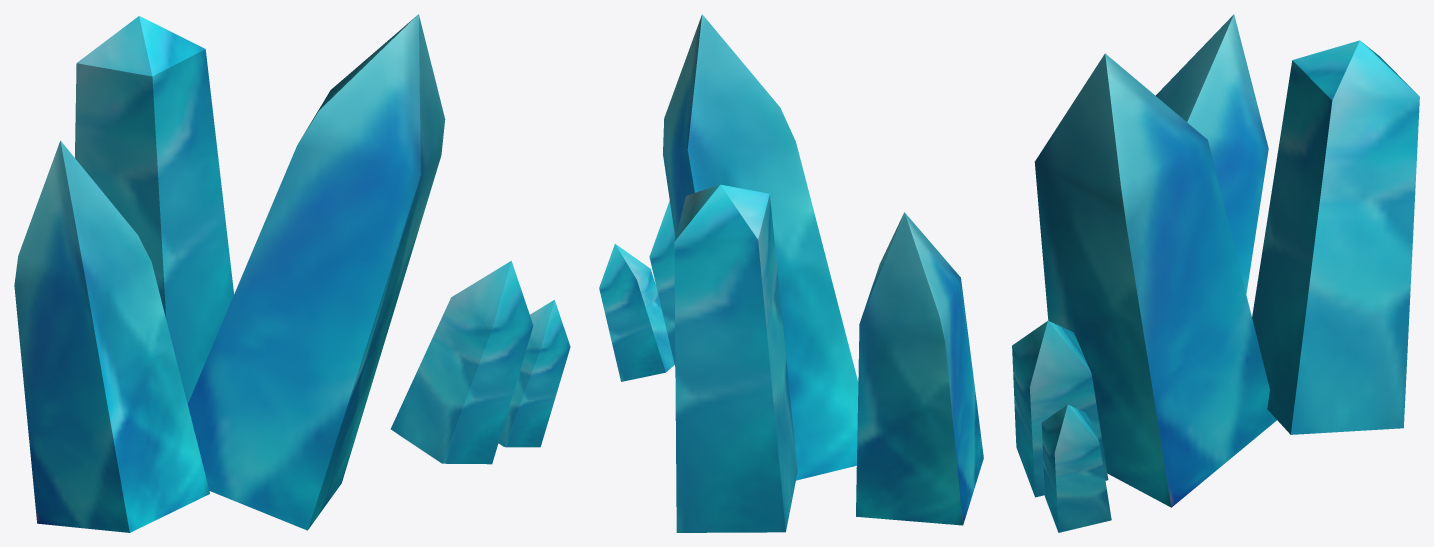
File: scene_malujiakuangdao_kuangshi02.FBX
3 renders of one model, left to right at view 1: azimuth 30°, elevation 25°; view 2: azimuth 150°, elevation 25°; view 3: azimuth 270°, elevation 25°, orthographic. The views are drawn at different scales.
Parts seen in each view (by area): view 1: scene_malujiakuangdao_kuangshi02; view 2: scene_malujiakuangdao_kuangshi02; view 3: scene_malujiakuangdao_kuangshi02.
Part boxes in pixels (x1=…): scene_malujiakuangdao_kuangshi02: x1=14, y1=14, x2=570, y2=532; scene_malujiakuangdao_kuangshi02: x1=599, y1=14, x2=983, y2=532; scene_malujiakuangdao_kuangshi02: x1=1012, y1=14, x2=1419, y2=532.
Size of the model in its own units: 156 by 155 by 121.
